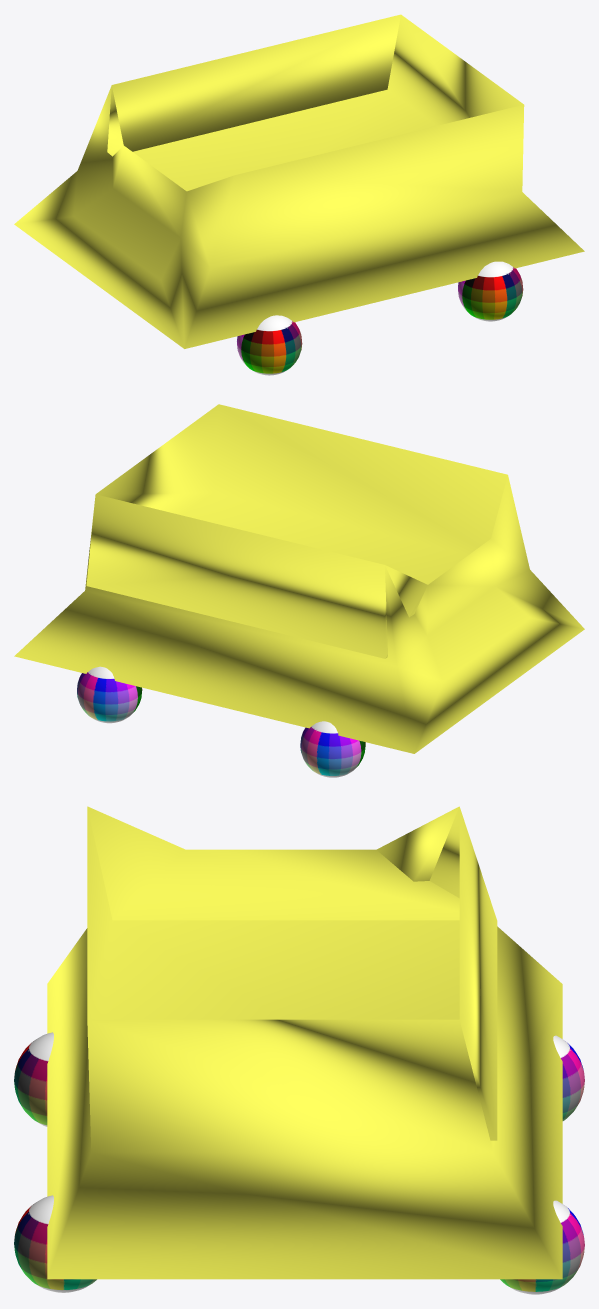
3 renders of one model, top to bottom at view 1: azimuth 30°, elevation 25°; view 2: azimuth 150°, elevation 25°; view 3: azimuth 270°, elevation 25°, orthographic. The views are drawn at different scales.
Visible parts, largest first — view 1: Cube; view 2: Cube; view 3: Cube.
Part boxes in pixels (box(x1,y1,x2,y2)): Cube: box(14, 14, 584, 375); Cube: box(14, 404, 584, 777); Cube: box(14, 806, 584, 1294).
Bounding box in the file's own units: 357 × 169 × 292.
5 materials, 5 textured.
